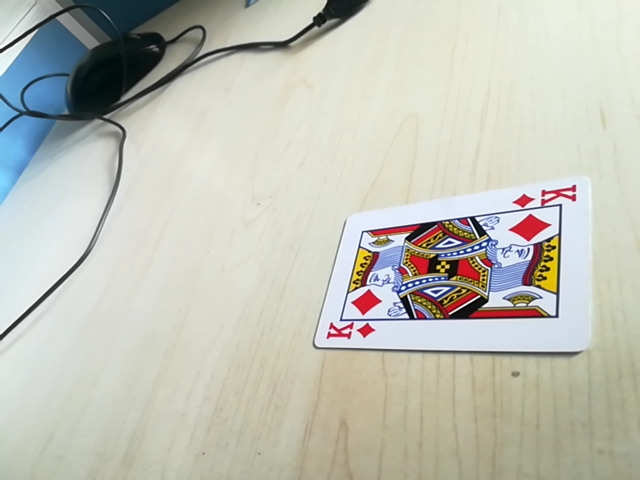fk k: (511, 184, 581, 211), (319, 321, 379, 346)
